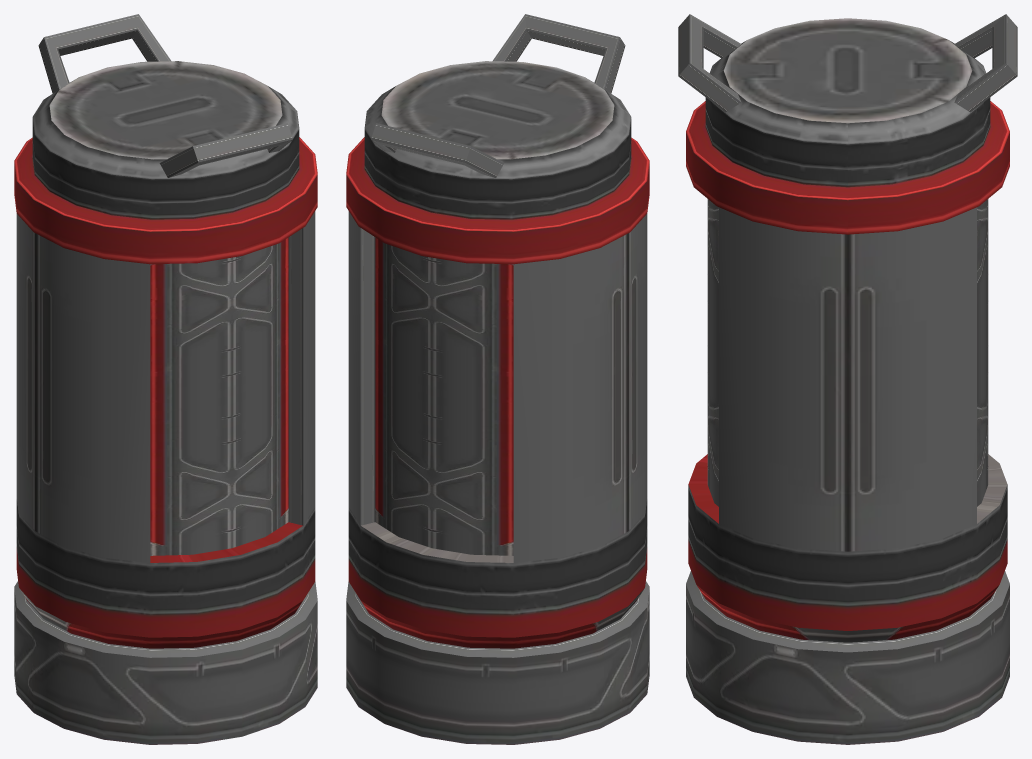
File: prop_barrel_large.glb
3 views of the same model, side by side, from view 1: azimuth 30°, elevation 25°; view 2: azimuth 150°, elevation 25°; view 3: azimuth 270°, elevation 25° (orthographic). The views are drawn at different scales.
Parts seen in each view (by area): view 1: Prop_Barrel_Large; view 2: Prop_Barrel_Large; view 3: Prop_Barrel_Large.
Part boxes in pixels (x1,y1,x2,y2): Prop_Barrel_Large: (14, 14, 317, 744); Prop_Barrel_Large: (346, 14, 649, 744); Prop_Barrel_Large: (678, 14, 1017, 744).
Bounding box in the file's own units: 0.5078 × 1.1 × 0.532.
2 materials, 2 textured.
